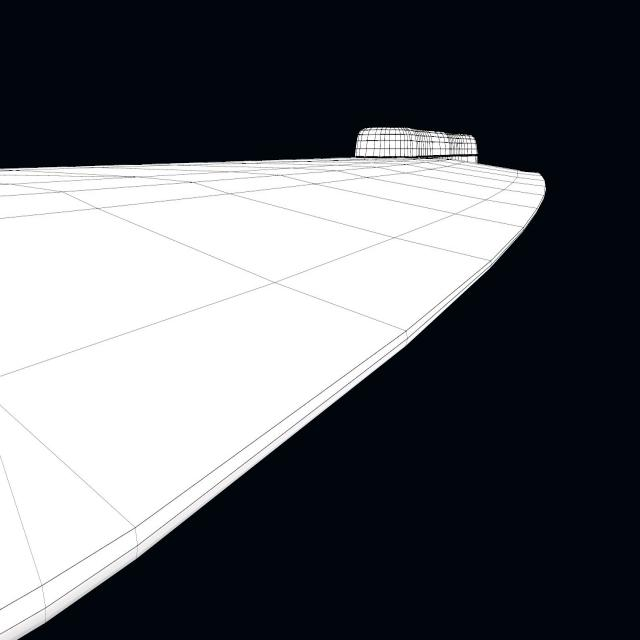cleaver: (0, 124, 552, 640)
